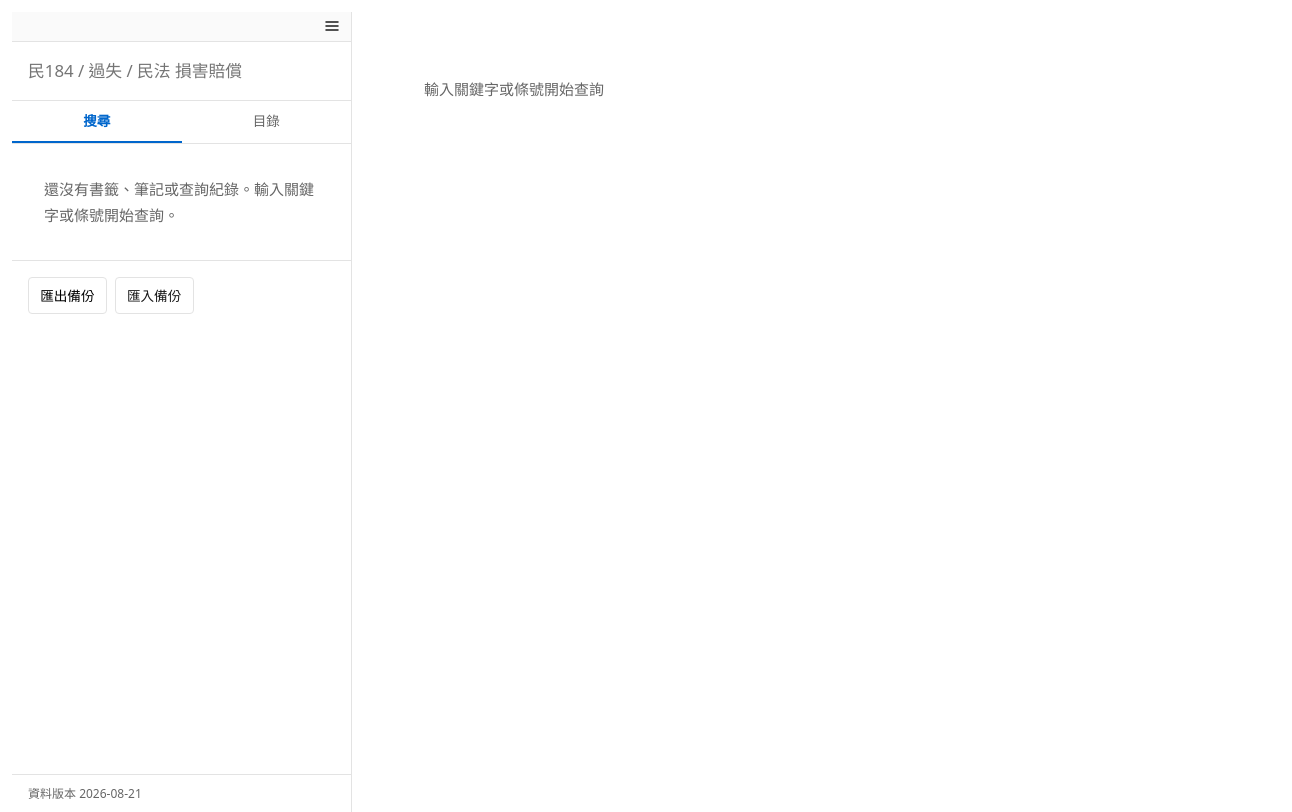
it: 左欄分頁(搜尋 / 目錄) › 切到目錄再切回搜尋,查詢字串與結果都還在
The image size is (1292, 812).
In the field named "搜尋法條": {"x": 182, "y": 71} [12,42,351,101], type "184"
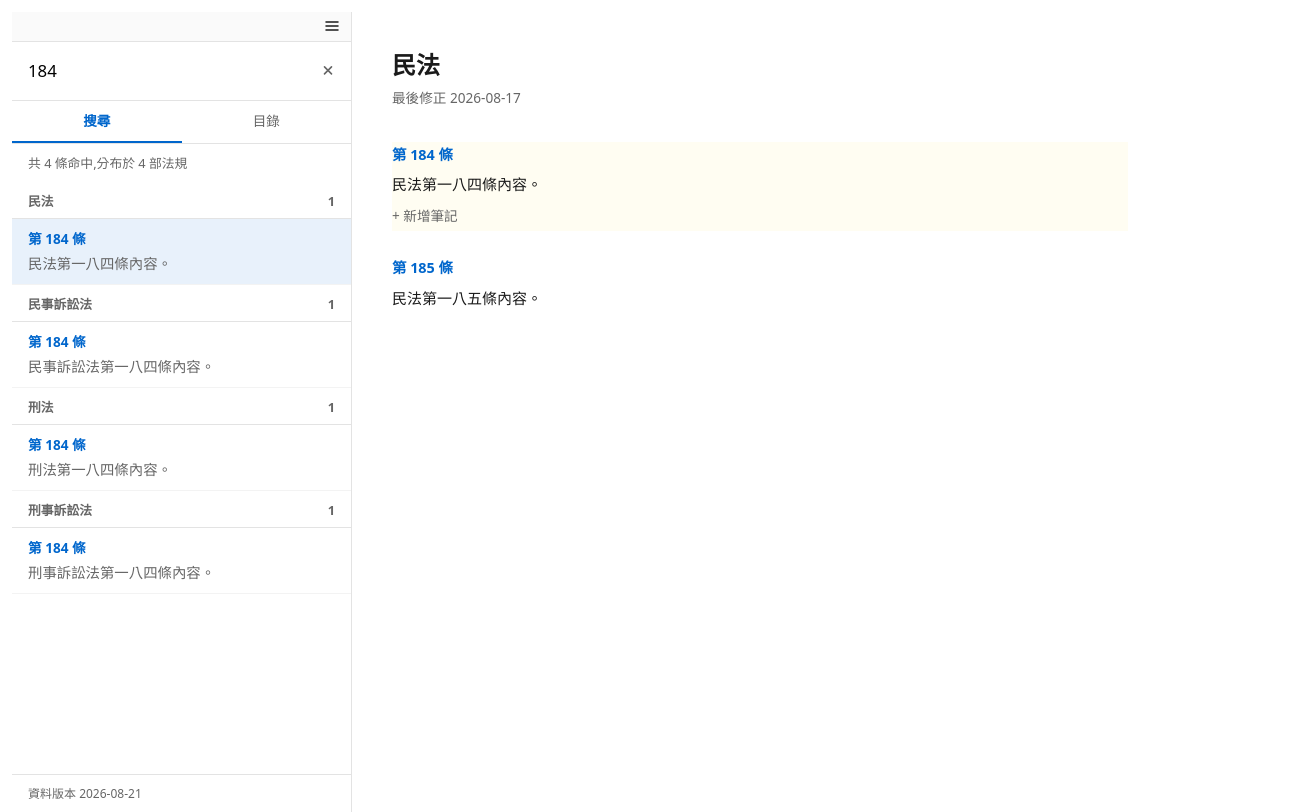
Expected: the number of options is 4, [12,219,351,285]; [12,322,351,388]; [12,425,351,491]; [12,528,351,594]
Click the tab "目錄": {"x": 266, "y": 122} [182,101,351,143]
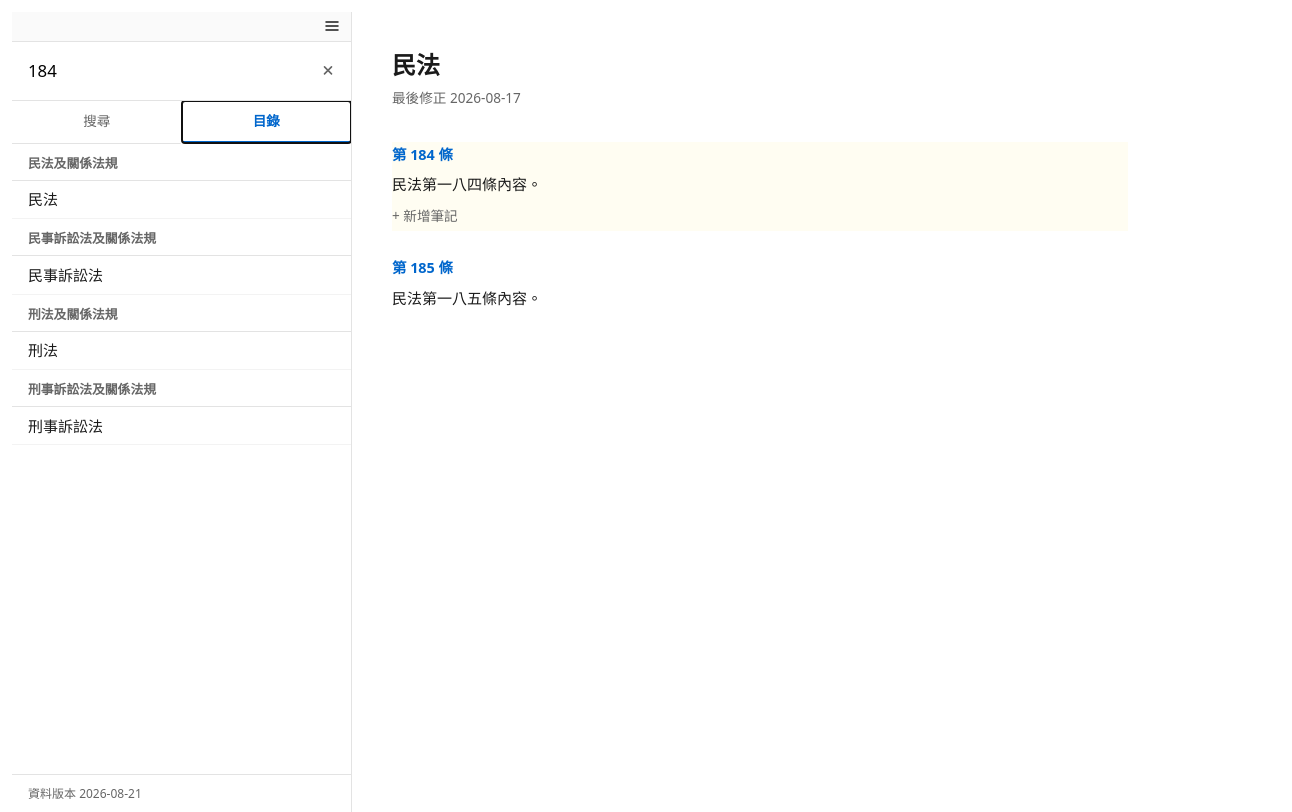
Expected: the button "刑法" is shown, [12,332,351,370]
Expected: no options are shown
Click the tab "搜尋": {"x": 97, "y": 122} [12,101,182,143]
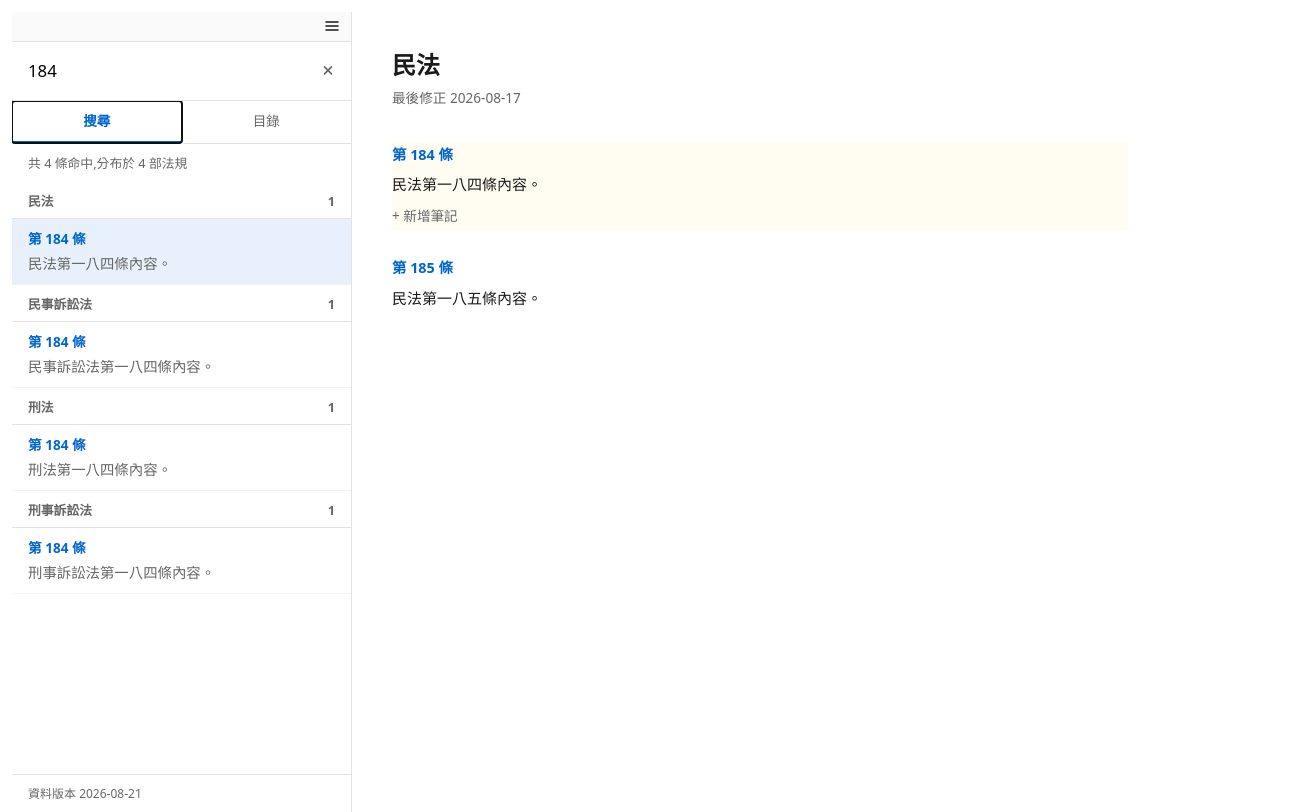
Expected: the number of options is 4, [12,219,351,285]; [12,322,351,388]; [12,425,351,491]; [12,528,351,594]
